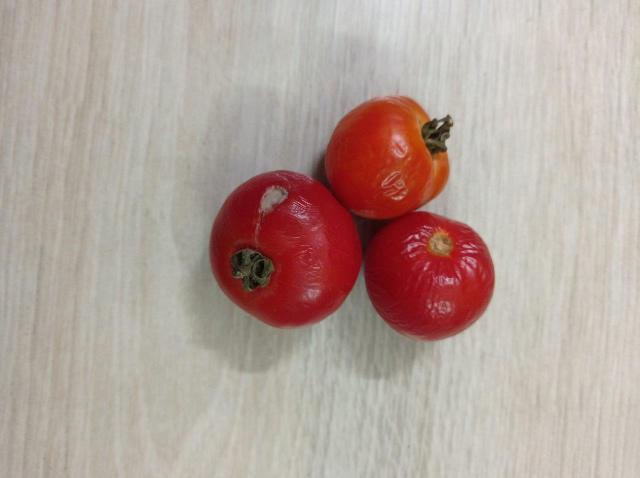defect: (204, 169, 363, 332), (320, 93, 458, 222)
